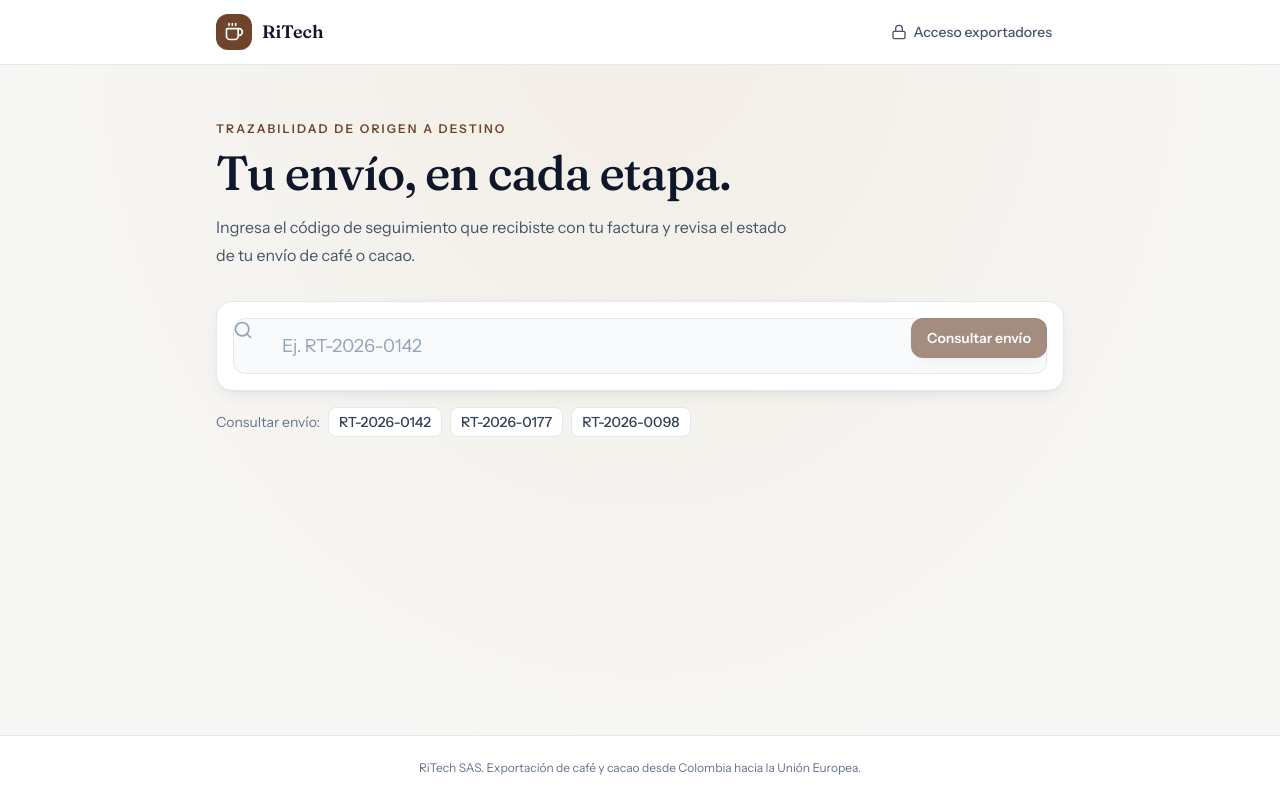
Test: TrackingView (unitaria) › encuentra un envío en tránsito y muestra su detalle
Type "RT-2026-0142" into the field named "Código de seguimiento" at {"x": 640, "y": 346}, box 233,318 -> 1047,374
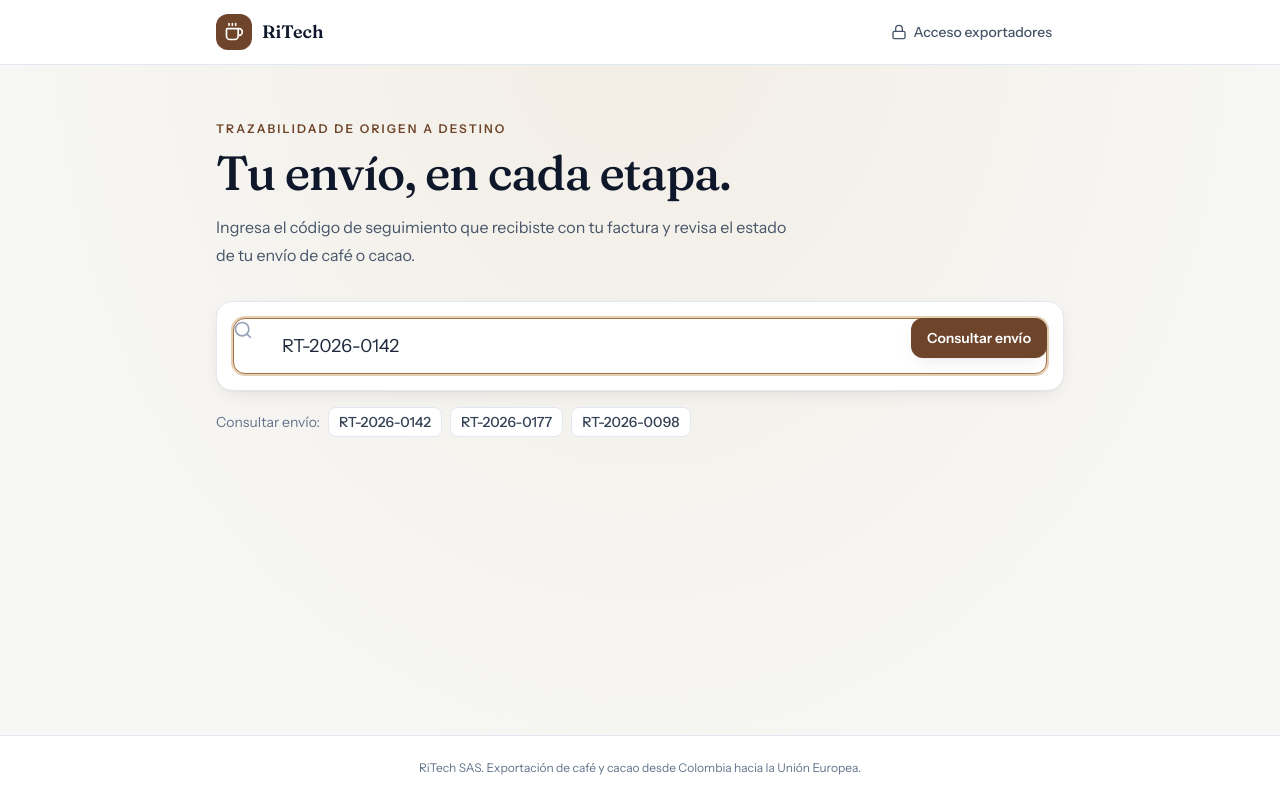
Click the button "Consultar envío" at {"x": 979, "y": 338}, box 911,318 -> 1047,358
Wait 700 ms
(page scrolled)
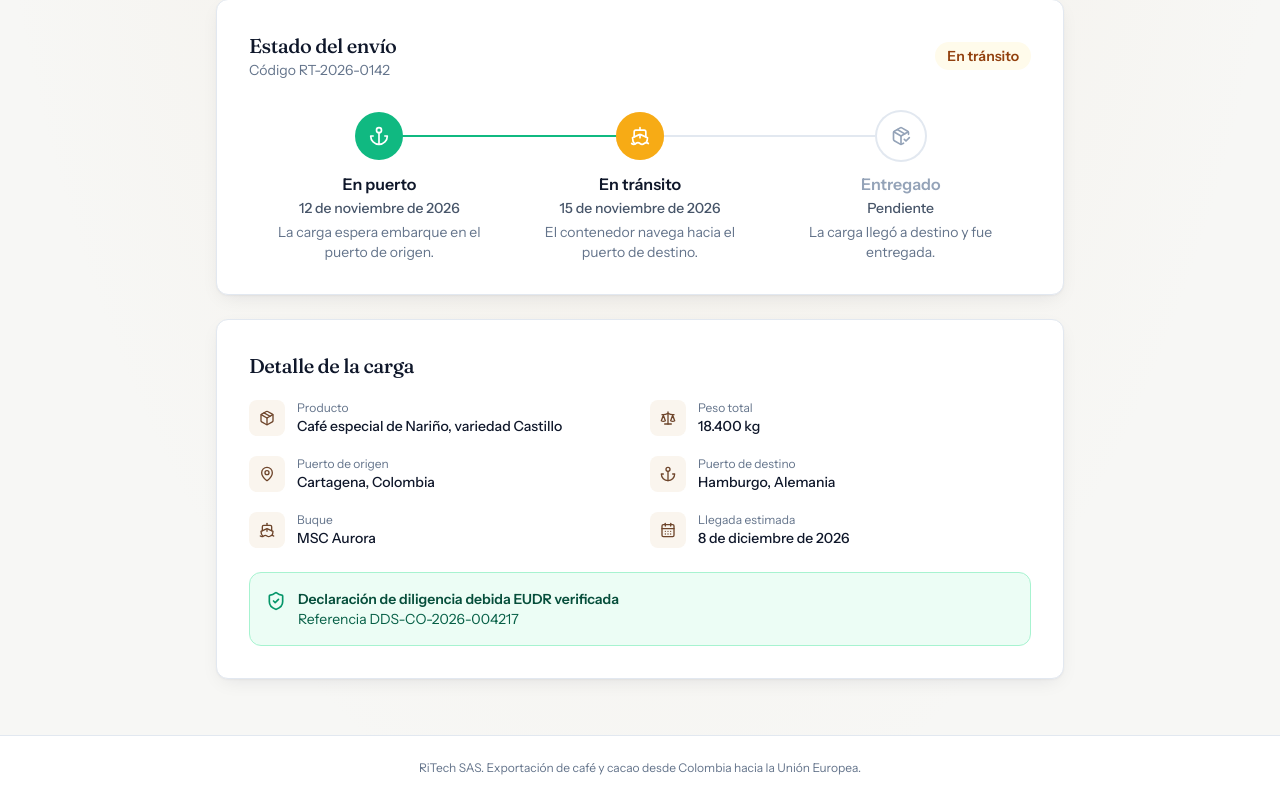
expect the heading "Estado del envío" is shown: met, box 249,32 -> 396,60
expect the text "MSC Aurora" is shown: met, box 297,528 -> 376,548
expect the text "18.400 kg" is shown: met, box 698,416 -> 760,436
